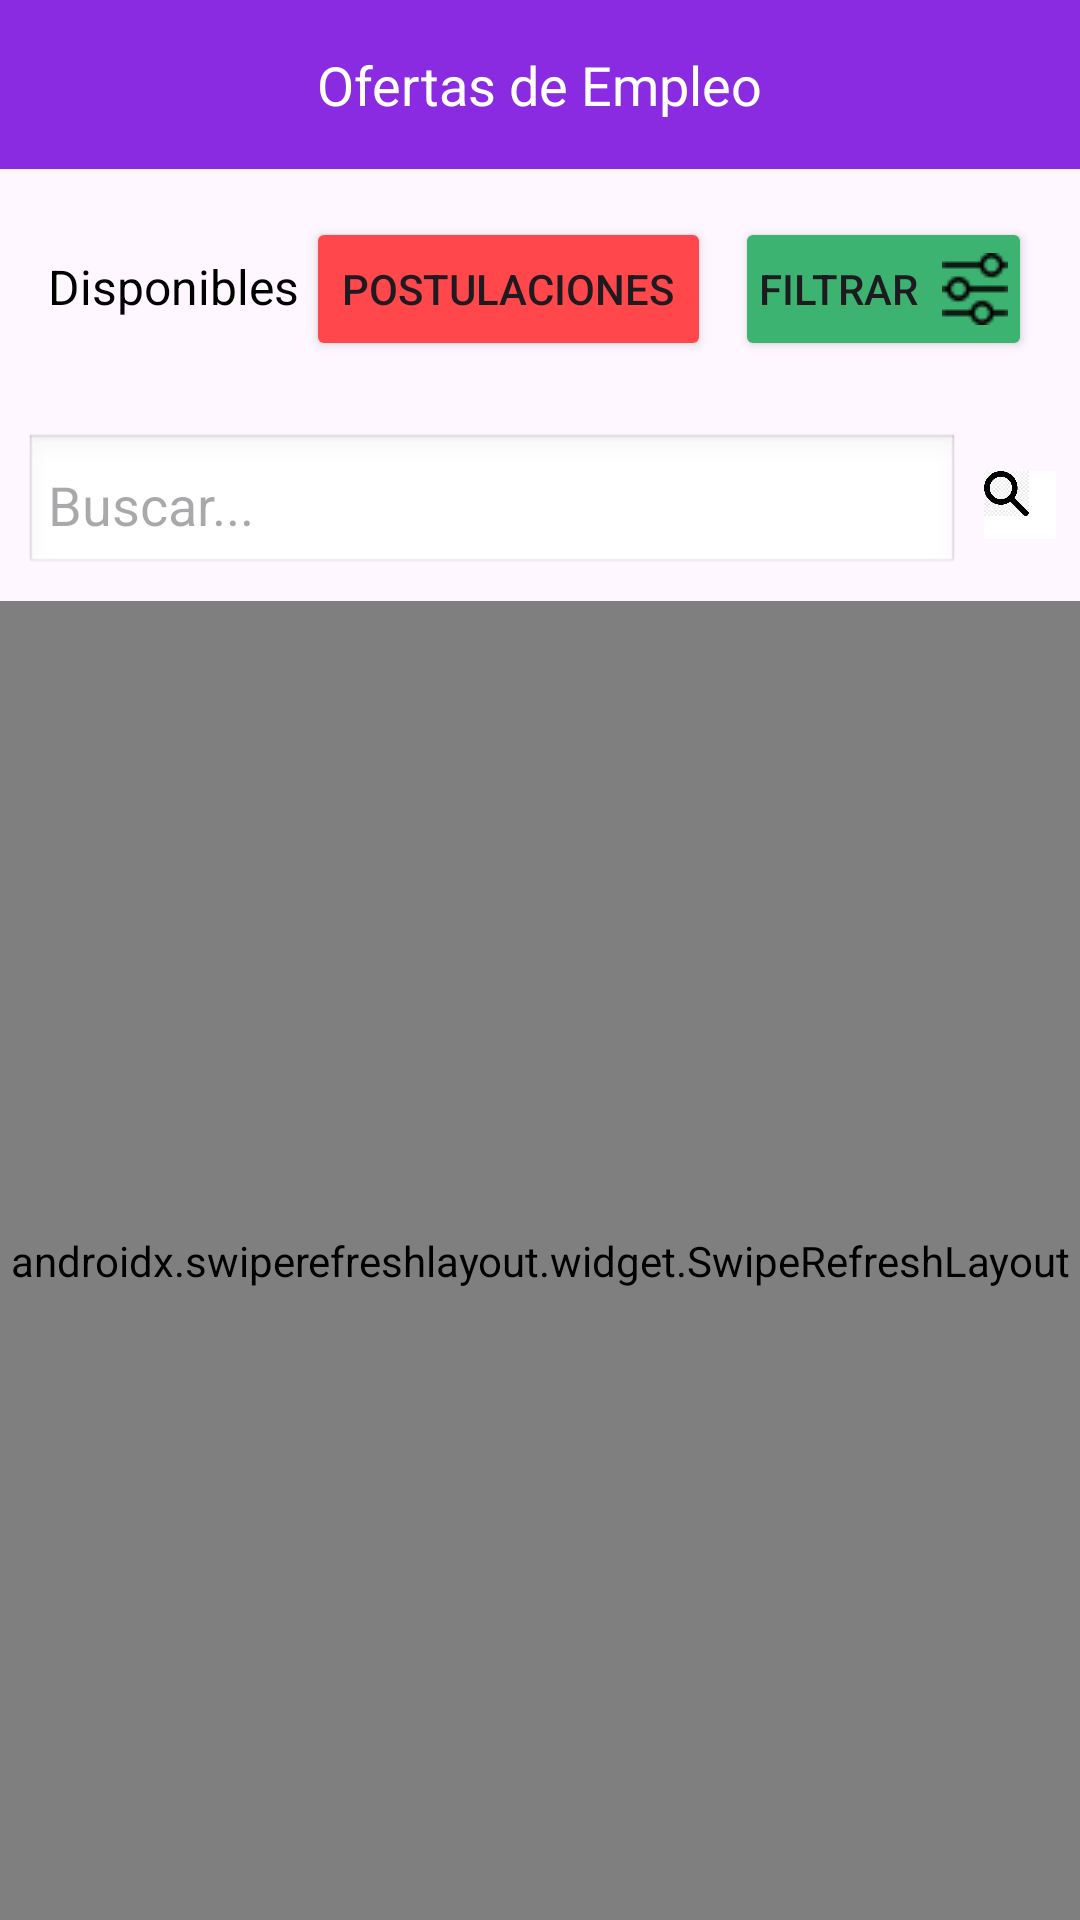

Icons on this 1080×1920 Android screen, each with its box as (x1, y1, x2, y2):
search: (984, 471, 1029, 516)
